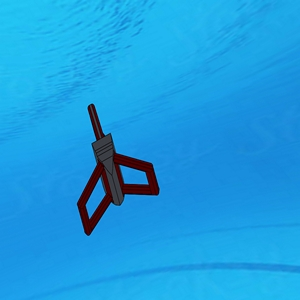submarine: (76, 104, 164, 230)
